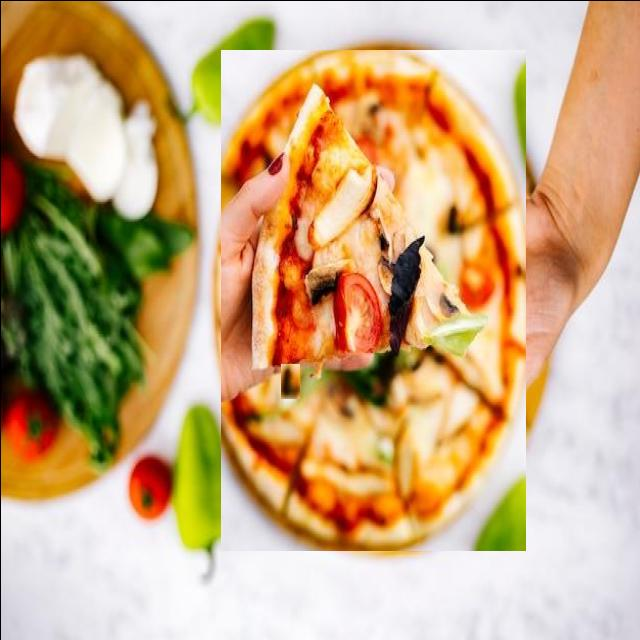basil: (318, 246, 358, 369), (280, 363, 299, 398)
pizza: (220, 49, 525, 550), (260, 229, 500, 511)
